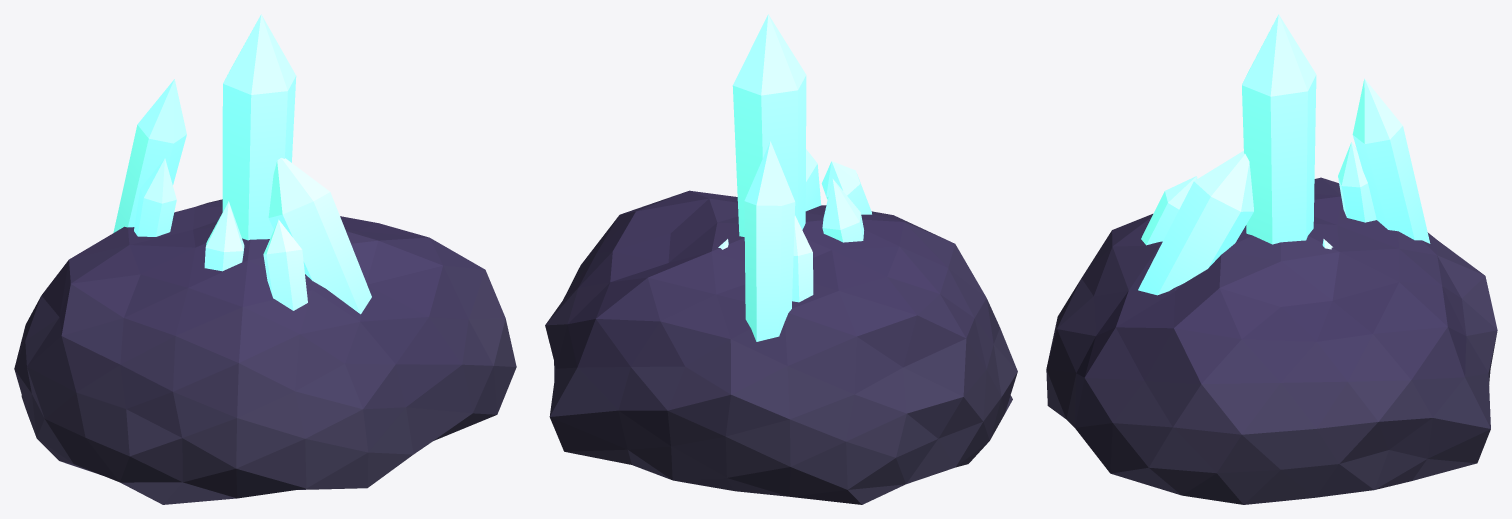
File: crystal.glb
3 views of the same model, side by side, from view 1: azimuth 30°, elevation 25°; view 2: azimuth 150°, elevation 25°; view 3: azimuth 270°, elevation 25° (orthographic).
Visible parts, largest first — view 1: crystal; view 2: crystal; view 3: crystal.
Part boxes in pixels (x1,y1,x2,y2): crystal: (14, 14, 516, 504); crystal: (545, 14, 1017, 504); crystal: (1046, 14, 1497, 504).
Size of the model in its own units: 2.19 by 2.06 by 2.
